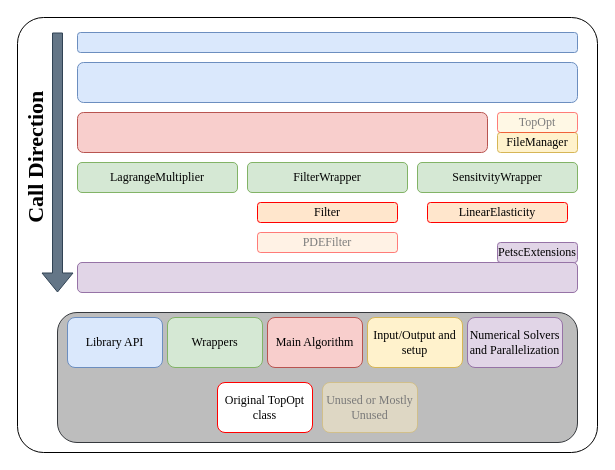
Image size: 615x470. Some labels were removed from this diagram. Each missing label, with the centre of its shape:
Hyperoptimization: [282,132]
HypOptLib: [327,82]
PETSc library: [327,277]
Pybind11 Wrapper: [327,42]
